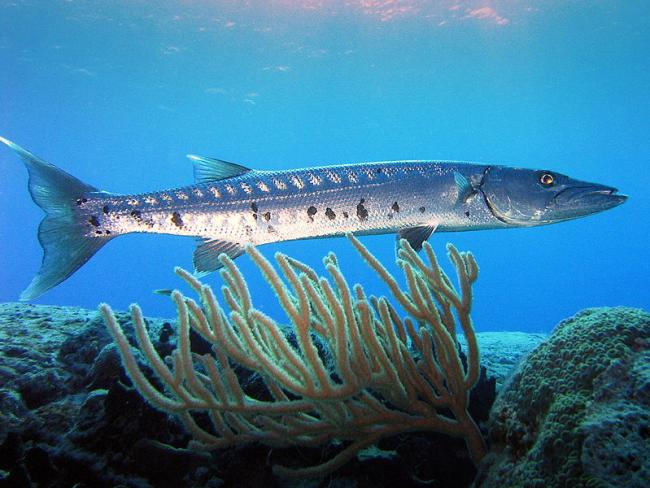fish: (1, 135, 630, 305)
